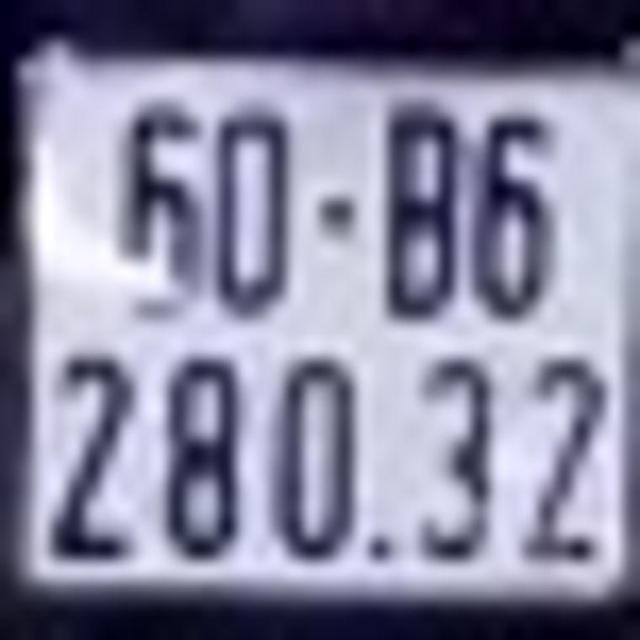0: (214, 102, 290, 338), (274, 351, 358, 552)
2: (49, 341, 142, 558), (520, 350, 610, 562)
3: (409, 354, 499, 559)
6: (116, 102, 209, 332), (475, 102, 559, 326)
8: (160, 350, 245, 566)
B: (384, 104, 460, 324)
